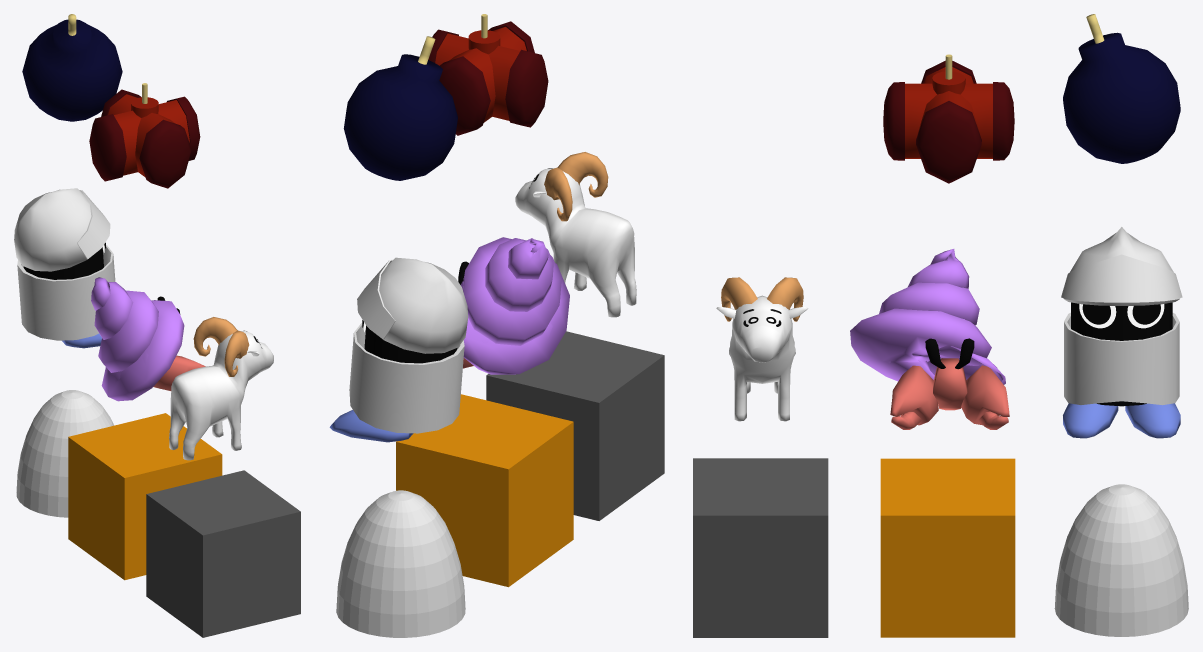
File: crate3d.glb
3 views of the same model, side by side, from view 1: azimuth 30°, elevation 25°; view 2: azimuth 150°, elevation 25°; view 3: azimuth 270°, elevation 25° (orthographic). The views are drawn at different scales.
Parts seen in each view (by area): view 1: Cube.001, Cube, knight, crab, pipebomb, goat, Bomb, Sphere; view 2: Cube, Cube.001, knight, Sphere, crab, Bomb, goat, pipebomb; view 3: Cube.001, Cube, knight, crab, Sphere, Bomb, pipebomb, goat.
Boxes of the visible parts, x1=… form: Cube.001: x1=146, y1=470, x2=300, y2=637; Cube: x1=68, y1=413, x2=222, y2=580; knight: x1=14, y1=188, x2=115, y2=348; crab: x1=91, y1=277, x2=205, y2=401; pipebomb: x1=89, y1=83, x2=200, y2=188; goat: x1=169, y1=317, x2=273, y2=460; Bomb: x1=22, y1=14, x2=122, y2=121; Sphere: x1=16, y1=390, x2=113, y2=517; Cube: x1=396, y1=394, x2=573, y2=587; Cube.001: x1=486, y1=331, x2=664, y2=520; knight: x1=329, y1=257, x2=468, y2=442; Sphere: x1=336, y1=490, x2=465, y2=637; crab: x1=458, y1=237, x2=569, y2=374; Bomb: x1=343, y1=36, x2=457, y2=180; goat: x1=515, y1=152, x2=636, y2=317; pipebomb: x1=428, y1=14, x2=548, y2=135; Cube.001: x1=693, y1=458, x2=828, y2=637; Cube: x1=880, y1=458, x2=1015, y2=637; knight: x1=1061, y1=227, x2=1182, y2=438; crab: x1=850, y1=249, x2=1009, y2=429; Sphere: x1=1054, y1=484, x2=1188, y2=636; Bomb: x1=1063, y1=14, x2=1180, y2=163; pipebomb: x1=883, y1=54, x2=1014, y2=183; goat: x1=716, y1=277, x2=808, y2=421.
Bounding box in the file's own units: 2.08 × 9.61 × 7.35.
17 materials, 1 textured.
